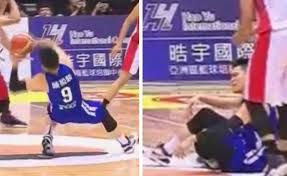fall: (14, 36, 129, 156)
